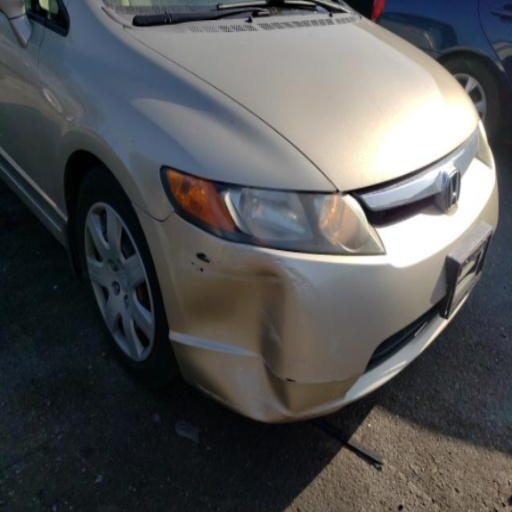dent: (199, 242, 302, 424), (160, 219, 192, 295), (264, 310, 284, 351), (287, 266, 316, 291), (255, 269, 280, 280)
scratch: (328, 337, 342, 358), (331, 382, 345, 401), (286, 376, 298, 383)
